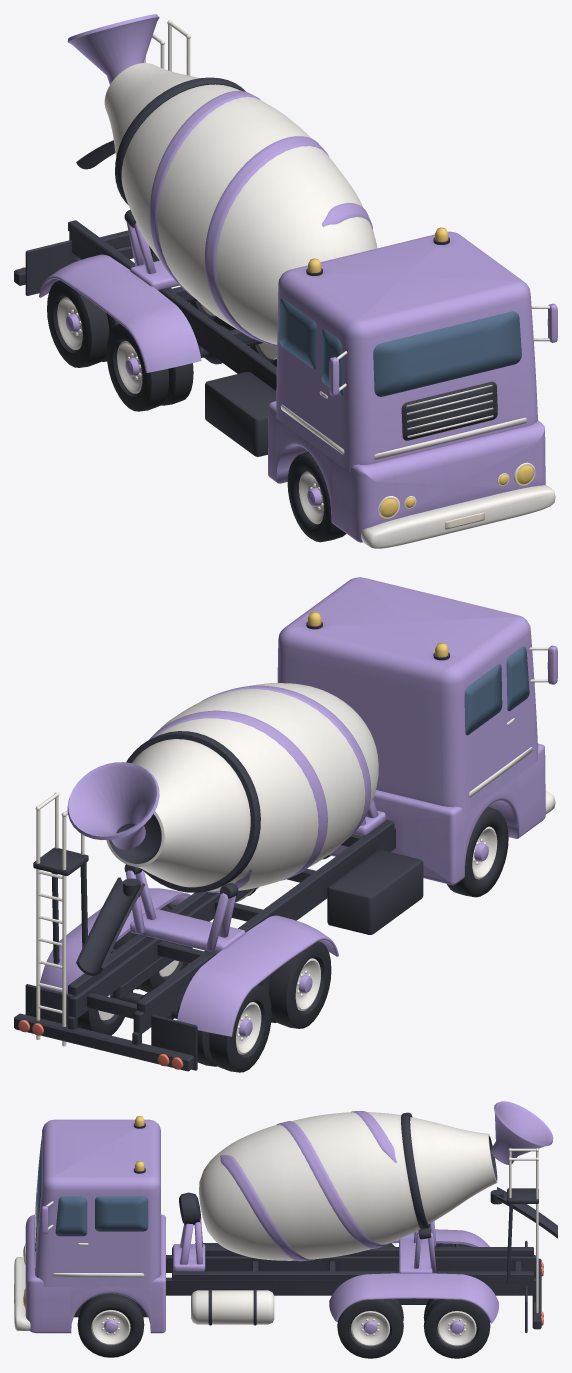
File: cement-mixer.glb
The picture shows the model from 3 angles, top to bottom: view 1: azimuth 30°, elevation 25°; view 2: azimuth 150°, elevation 25°; view 3: azimuth 270°, elevation 25°; orthographic projection. The views are drawn at different scales.
Parts seen in each view (by area): view 1: cement-mixer_body, cement-mixer_drum, cement-mixer_windows, cement-mixer_wheel_r1r, cement-mixer_wheel_r2r, cement-mixer_wheel_fr, cement-mixer_headlights; view 2: cement-mixer_body, cement-mixer_drum, cement-mixer_wheel_r1r, cement-mixer_wheel_r2r, cement-mixer_wheel_fr, cement-mixer_windows, cement-mixer_wheel_r2l, cement-mixer_wheel_r1l; view 3: cement-mixer_body, cement-mixer_drum, cement-mixer_wheel_fl, cement-mixer_windows, cement-mixer_wheel_r1l, cement-mixer_wheel_r2l.
Boxes of the visible parts, x1=… form: cement-mixer_body: x1=14, y1=14, x2=557, y2=548; cement-mixer_drum: x1=104, y1=63, x2=377, y2=345; cement-mixer_windows: x1=279, y1=298, x2=521, y2=396; cement-mixer_wheel_r1r: x1=106, y1=324, x2=193, y2=411; cement-mixer_wheel_r2r: x1=47, y1=280, x2=119, y2=367; cement-mixer_wheel_fr: x1=287, y1=451, x2=346, y2=542; cement-mixer_headlights: x1=378, y1=462, x2=535, y2=519; cement-mixer_body: x1=14, y1=577, x2=557, y2=1071; cement-mixer_drum: x1=106, y1=683, x2=378, y2=892; cement-mixer_wheel_r1r: x1=258, y1=941, x2=331, y2=1028; cement-mixer_wheel_r2r: x1=197, y1=984, x2=271, y2=1072; cement-mixer_wheel_fr: x1=447, y1=807, x2=508, y2=897; cement-mixer_windows: x1=464, y1=646, x2=529, y2=735; cement-mixer_wheel_r2l: x1=77, y1=948, x2=132, y2=1035; cement-mixer_wheel_r1l: x1=113, y1=904, x2=192, y2=992; cement-mixer_body: x1=14, y1=1101, x2=557, y2=1333; cement-mixer_drum: x1=199, y1=1111, x2=497, y2=1261; cement-mixer_wheel_fl: x1=77, y1=1293, x2=144, y2=1357; cement-mixer_windows: x1=37, y1=1140, x2=148, y2=1236; cement-mixer_wheel_r1l: x1=337, y1=1299, x2=403, y2=1358; cement-mixer_wheel_r2l: x1=423, y1=1299, x2=490, y2=1358.
Bounding box in the file's own units: 2.94 × 3.81 × 8.49.
Materials: 24 (2 with a texture image).
